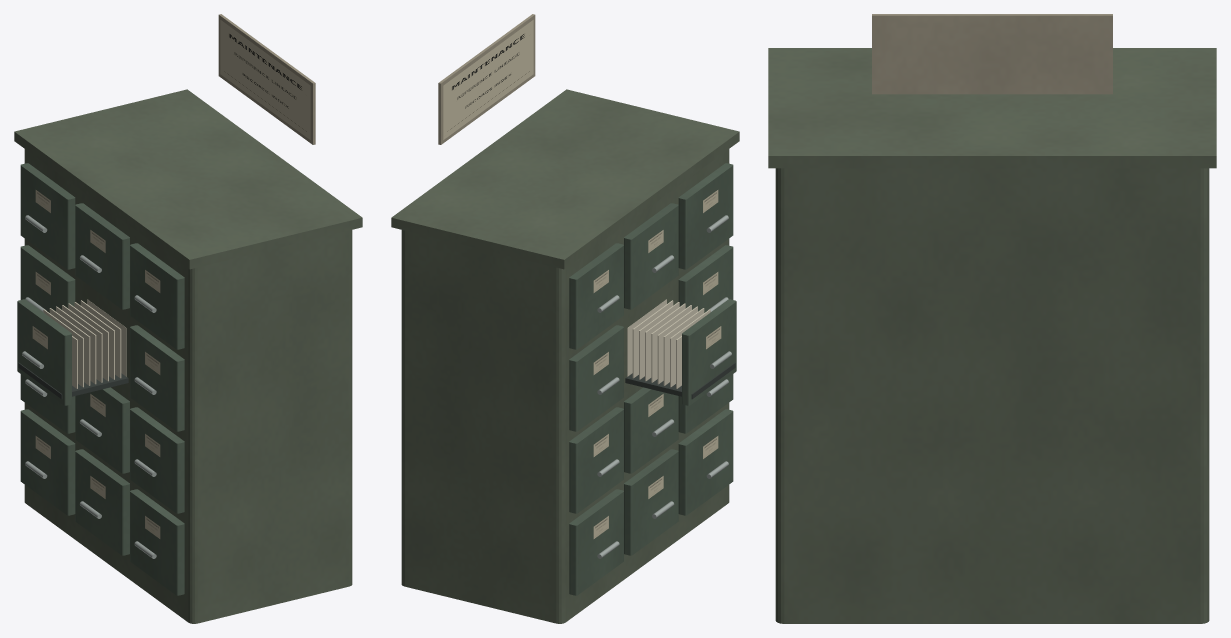
File: SM_ArchiveProps_CardIndex.glb
3 views of the same model, side by side, from view 1: azimuth 30°, elevation 25°; view 2: azimuth 150°, elevation 25°; view 3: azimuth 270°, elevation 25° (orthographic). The views are drawn at different scales.
Visible parts, largest first — view 1: SM_ArchiveProps_CardIndex; view 2: SM_ArchiveProps_CardIndex; view 3: SM_ArchiveProps_CardIndex.
Part boxes in pixels (x1,y1,x2,y2): SM_ArchiveProps_CardIndex: (14, 14, 362, 623); SM_ArchiveProps_CardIndex: (391, 14, 739, 623); SM_ArchiveProps_CardIndex: (768, 14, 1216, 623).
Size of the model in its own units: 0.748 by 1.39 by 0.93.
Materials: 7 (4 with a texture image).
